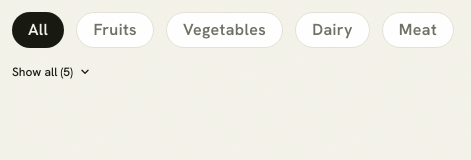
Test: FilterChips Component › overflow and expand/collapse › should expand and show "Show less" when toggle is clicked
Step 1. Click the button "Show all (5)" → click(52, 72), box [12,64,93,80]
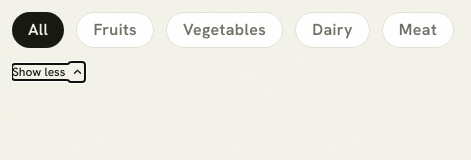
Expected: the button "Show less" is shown, [12,64,85,80]
Expected: the button "Show all" is gone
